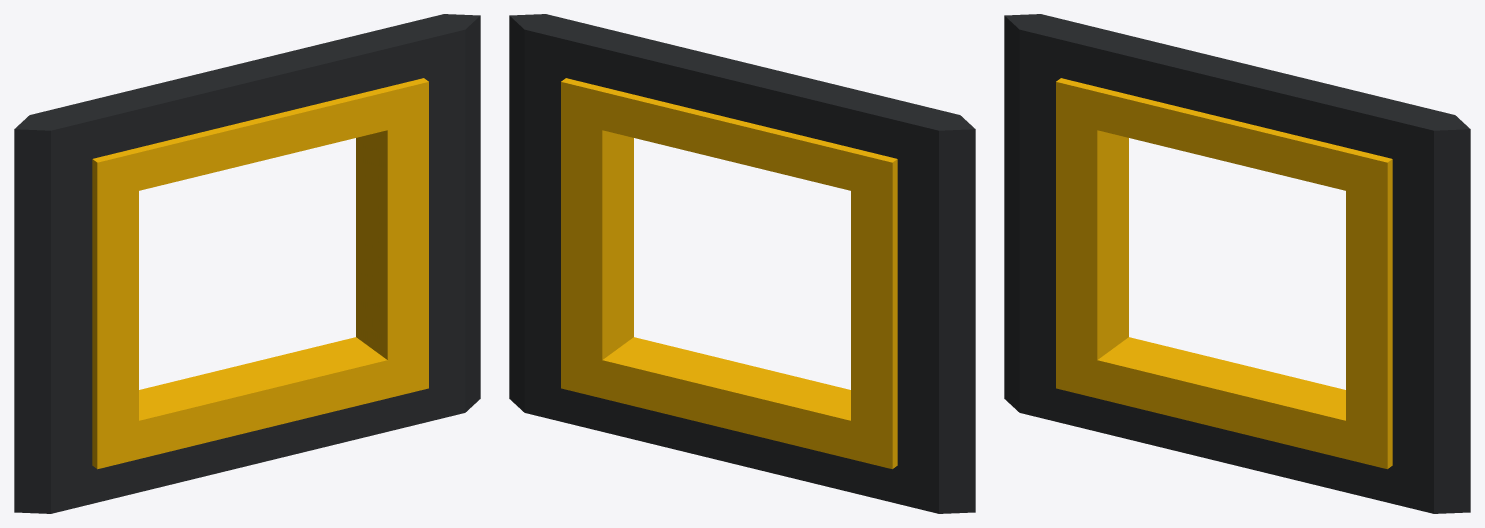
Rendered from Demo_Wall_Square.fbx.
3 views of the same model, side by side, from view 1: azimuth 30°, elevation 25°; view 2: azimuth 150°, elevation 25°; view 3: azimuth 330°, elevation 25° (orthographic).
Visible parts, largest first — view 1: mergedBlocks; view 2: mergedBlocks; view 3: mergedBlocks.
Boxes of the visible parts, x1=… form: mergedBlocks: x1=14, y1=14, x2=480, y2=513; mergedBlocks: x1=509, y1=14, x2=975, y2=513; mergedBlocks: x1=1004, y1=14, x2=1470, y2=513.
Size of the model in its own units: 29.27 by 22.99 by 3.43.
